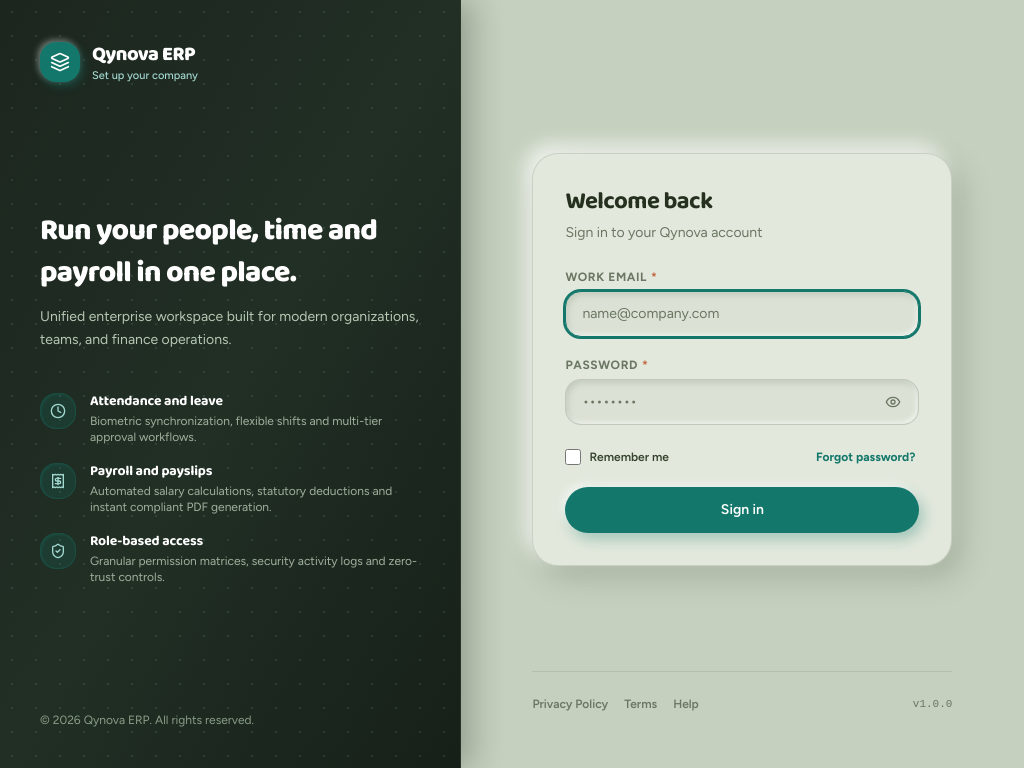
Scenario: Qynova ERP - Enterprise Login Experience Suite › 3. Submission & Loading State › shows loading spinner and disables inputs during authentication request
Type "user@qynova.com" into the field labelled "Work email *" at {"x": 742, "y": 314}, box [565, 291, 919, 337]
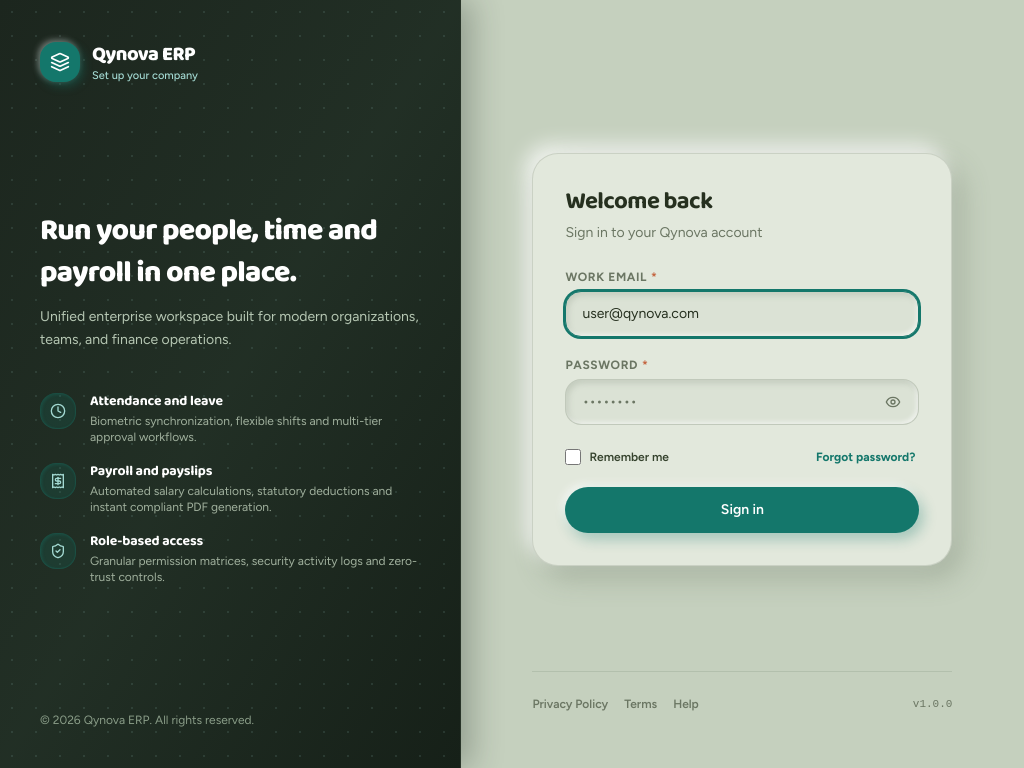
Type "ValidPass123!" into the password field labelled "Password *" at {"x": 742, "y": 402}, box [565, 379, 919, 425]
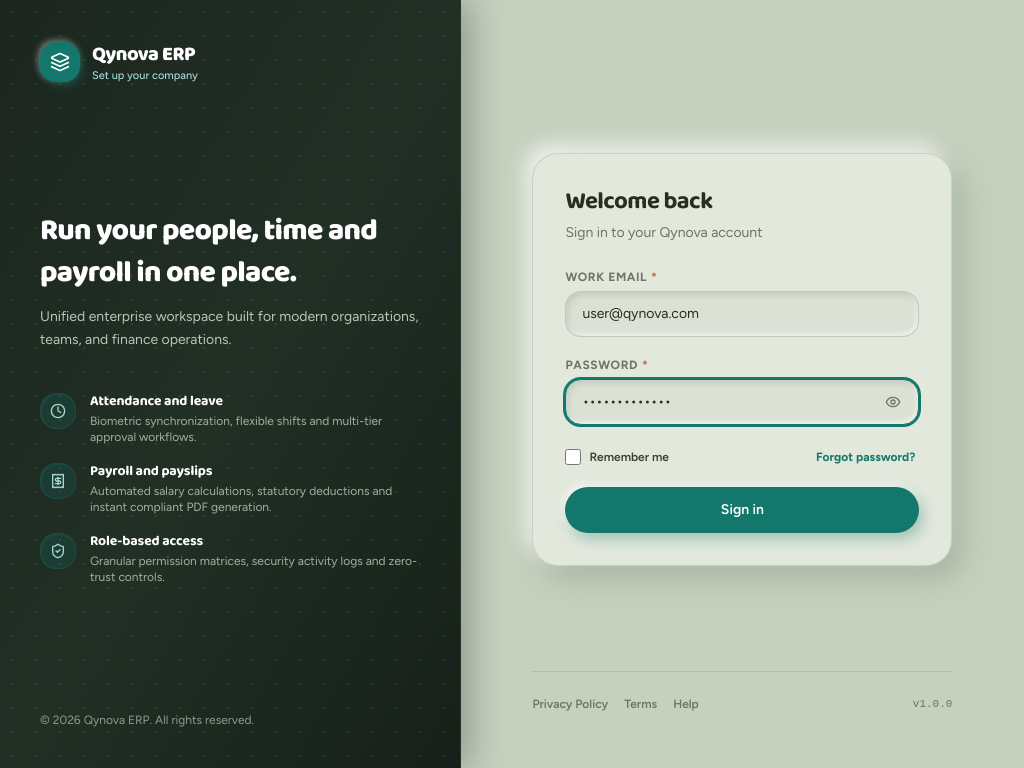
Click the button "Sign in" at {"x": 742, "y": 510}, box [565, 487, 919, 533]
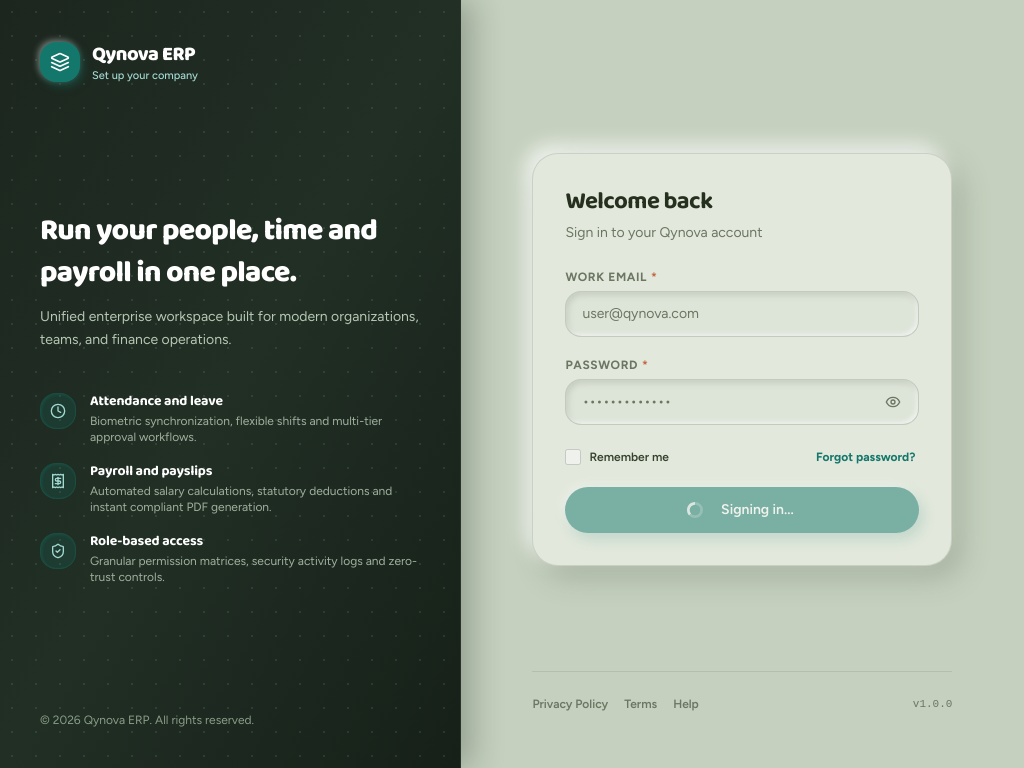
Check: the button "Signing in..." is disabled, box [565, 487, 919, 533]
Check: the field labelled "Work email *" is disabled, box [565, 291, 919, 337]
Check: the password field labelled "Password *" is disabled, box [565, 379, 919, 425]
